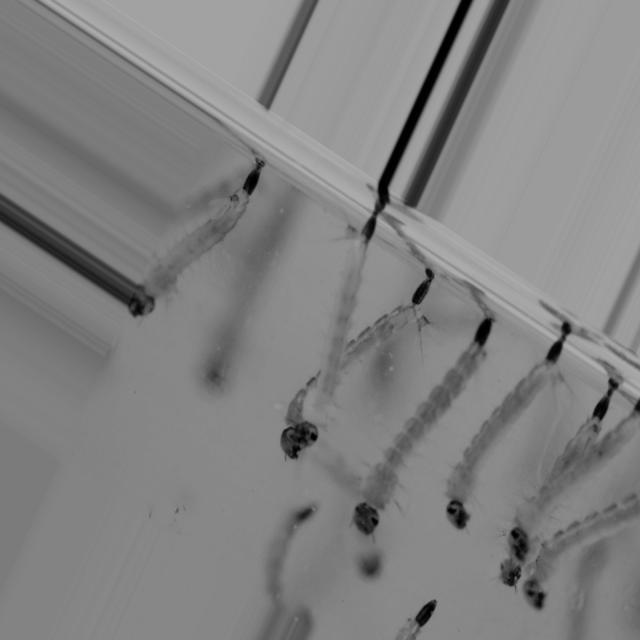larvas: (338, 311, 514, 552), (430, 326, 592, 544), (120, 155, 272, 329), (191, 177, 308, 402), (287, 204, 384, 464), (498, 402, 637, 569), (518, 475, 634, 617), (312, 438, 388, 587), (358, 257, 448, 361), (265, 494, 317, 586), (391, 595, 439, 640)
